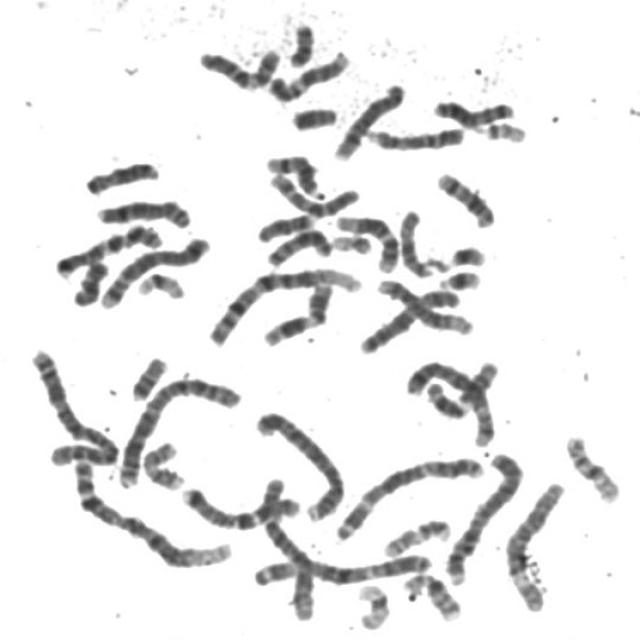A1: (68, 454, 236, 570), (202, 259, 366, 348)
A2: (110, 368, 246, 491), (24, 340, 124, 470)
A3: (330, 447, 489, 543), (248, 544, 438, 588)
B4: (440, 445, 529, 587), (250, 402, 349, 523)
B5: (95, 229, 214, 311), (400, 353, 500, 448)
C10: (264, 166, 365, 219), (193, 38, 286, 92)
C11: (258, 275, 338, 348), (422, 354, 504, 420)
C12: (372, 270, 479, 336), (330, 205, 403, 274)
C6: (254, 469, 320, 623), (498, 474, 570, 614)
C7: (48, 217, 166, 280), (177, 480, 304, 531)
C8: (328, 75, 410, 162), (91, 191, 196, 229)
C9: (262, 43, 354, 103), (360, 118, 470, 153)
D13: (428, 91, 519, 128), (267, 228, 334, 271)
D14: (431, 164, 500, 229), (261, 147, 328, 200)
D15: (80, 152, 164, 196), (393, 201, 438, 281)
E16: (560, 427, 626, 504), (398, 566, 466, 623)
E17: (378, 511, 455, 559), (138, 433, 189, 492)
E18: (251, 204, 318, 244), (67, 252, 114, 308)
F19: (350, 576, 395, 632), (130, 265, 190, 301)
F20: (126, 348, 172, 402), (282, 15, 320, 68)
G21: (436, 236, 492, 272), (434, 262, 486, 292)
G22: (476, 113, 531, 145), (329, 232, 376, 256)
X: (355, 282, 464, 356)
Y: (286, 99, 342, 132)
